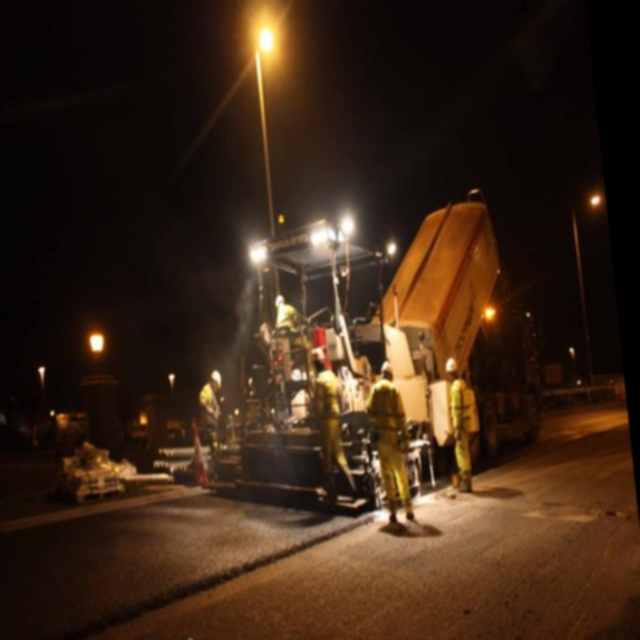Con_Chaleco: (369, 379, 405, 446), (446, 377, 479, 434)
